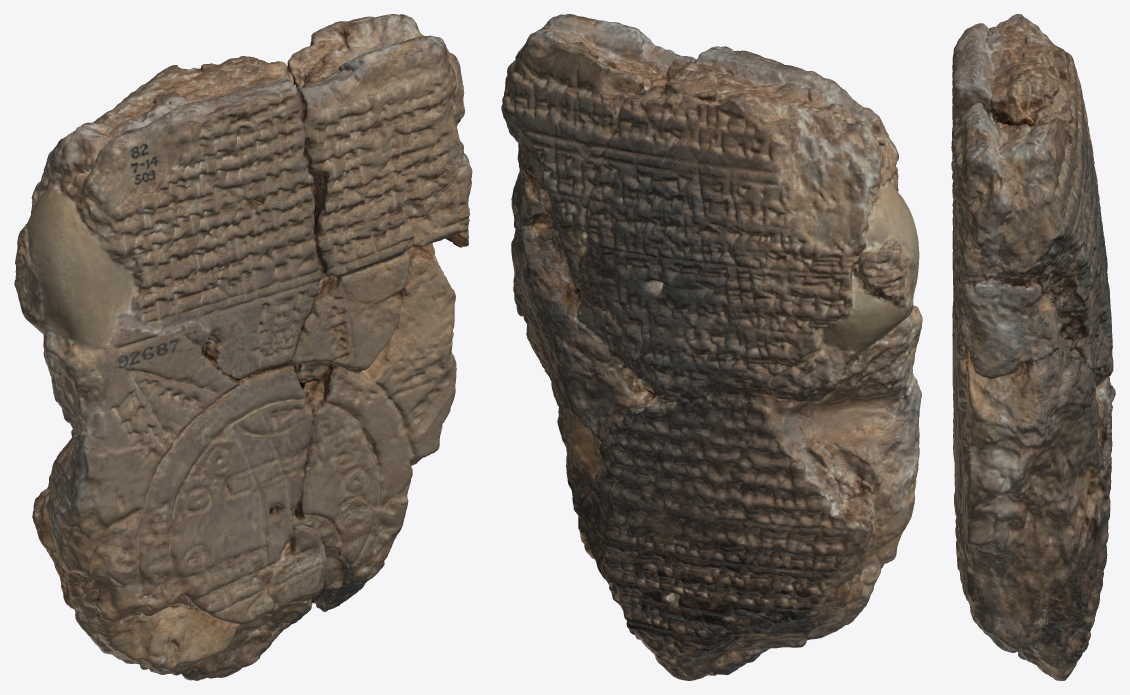
Rendered from the_map_of_the_world_tablet.glb.
The picture shows the model from 3 angles, left to right: view 1: azimuth 30°, elevation 25°; view 2: azimuth 150°, elevation 25°; view 3: azimuth 270°, elevation 25°; orthographic projection. The views are drawn at different scales.
Visible parts, largest first — view 1: Object_2, Object_3, Object_4, Object_6, Object_5; view 2: Object_5, Object_6, Object_4, Object_2, Object_3; view 3: Object_4, Object_5, Object_3, Object_6, Object_2.
Part boxes in pixels (bbox=[...]): Object_2: bbox=[26, 14, 463, 651]; Object_3: bbox=[35, 14, 472, 677]; Object_4: bbox=[14, 15, 471, 680]; Object_6: bbox=[15, 14, 434, 679]; Object_5: bbox=[20, 23, 433, 680]; Object_5: bbox=[502, 29, 913, 680]; Object_6: bbox=[503, 28, 911, 678]; Object_4: bbox=[501, 14, 920, 668]; Object_2: bbox=[515, 17, 921, 636]; Object_3: bbox=[539, 14, 922, 680]; Object_4: bbox=[965, 14, 1095, 657]; Object_5: bbox=[1008, 23, 1115, 680]; Object_3: bbox=[953, 24, 1099, 673]; Object_6: bbox=[1015, 21, 1114, 680]; Object_2: bbox=[951, 23, 1072, 487].
Size of the model in its own units: 85.17 by 121 by 29.36.
Materials: 1 (1 with a texture image).
